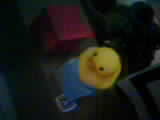duck: (74, 33, 119, 82)
